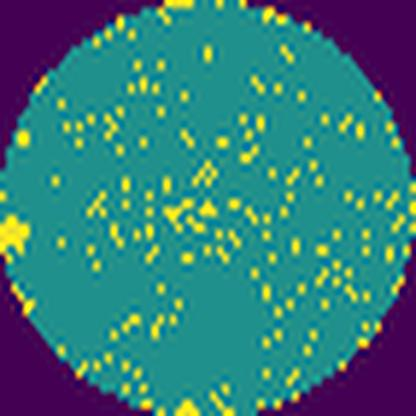Edge-Loc: (0, 210, 38, 260), (172, 395, 202, 416)
